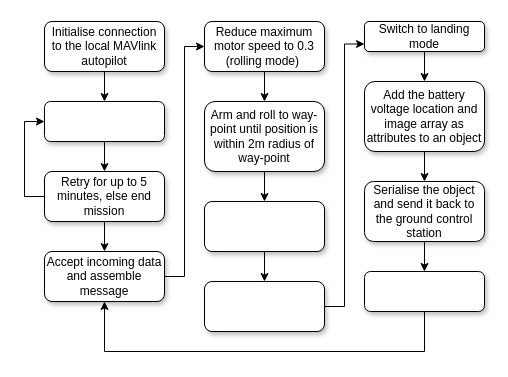
This 508x377 diagram has some shape labels left out. Here are the shapes that lost their labels. From the top down, the centre of each, then its label:
At pixel 105 122: "Attempt connection to ground control server".
At pixel 265 227: "Increase maximum motor speed to 0.3 (flying mode)".
At pixel 265 307: "Take a picture as a numpy array and save it to the disk.".
At pixel 425 292: "Await the next way-point".
